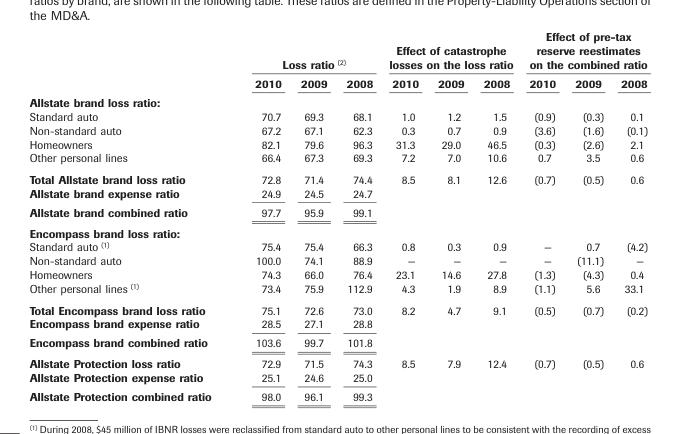table: (28, 29, 646, 402)
table column: (28, 29, 232, 402), (232, 29, 290, 402), (380, 29, 427, 402), (473, 29, 520, 402), (564, 29, 611, 402), (290, 29, 336, 402), (427, 29, 473, 402), (336, 29, 380, 402), (520, 29, 564, 402), (611, 29, 646, 402)
table column header: (28, 29, 646, 92)
table projected row header: (28, 222, 646, 239), (28, 92, 646, 108)
table row: (28, 29, 646, 73), (28, 202, 646, 222), (28, 332, 646, 352), (28, 73, 646, 92), (28, 150, 646, 168), (28, 298, 646, 316), (28, 352, 646, 370), (28, 168, 646, 185), (28, 185, 646, 202), (28, 222, 646, 239), (28, 281, 646, 298), (28, 92, 646, 108), (28, 316, 646, 332), (28, 370, 646, 386), (28, 386, 646, 402), (28, 108, 646, 122), (28, 122, 646, 136), (28, 136, 646, 150), (28, 239, 646, 253), (28, 253, 646, 267), (28, 267, 646, 281)
table spanning cell: (232, 29, 380, 73), (380, 29, 520, 73), (520, 29, 646, 73)
